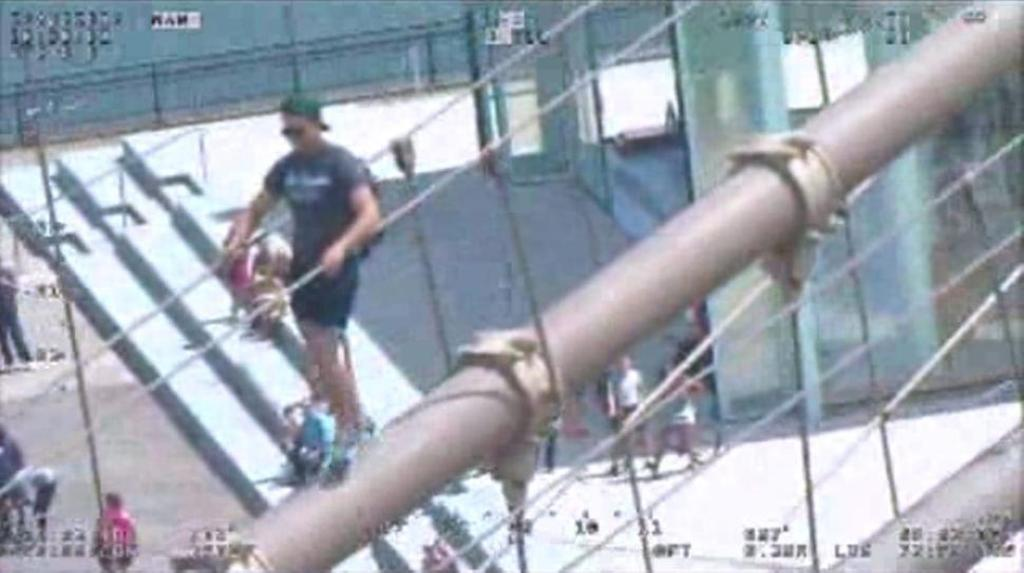face: (280, 109, 312, 148)
